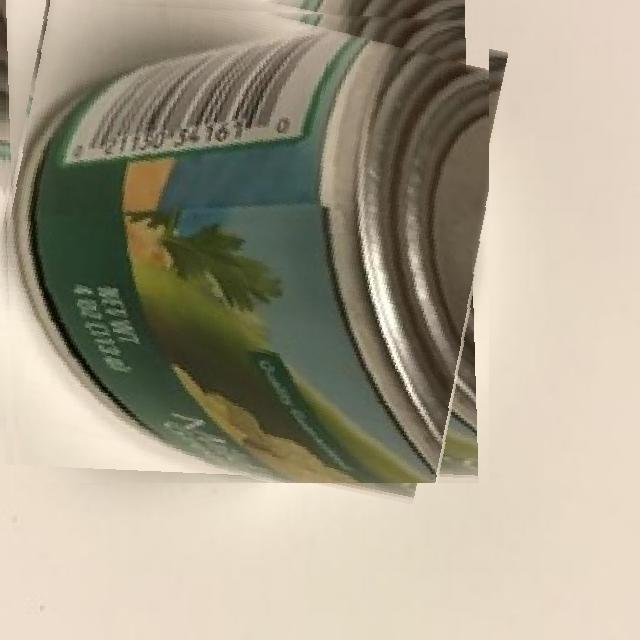recyclable: (0, 0, 489, 483)
